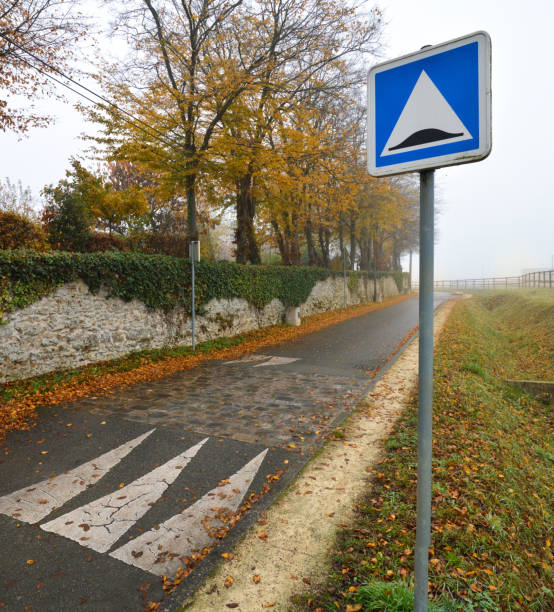speed-breaker: (376, 67, 474, 158)
